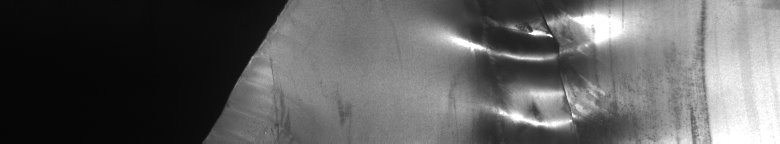ke: (451, 8, 605, 136)
